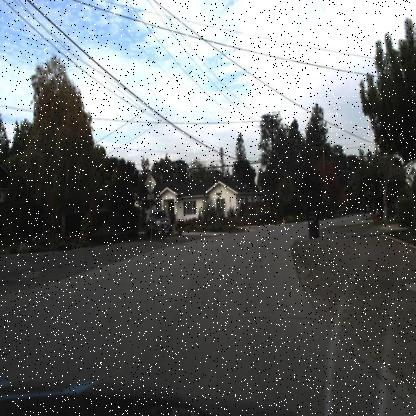car: (149, 210, 171, 234), (173, 218, 185, 239)
